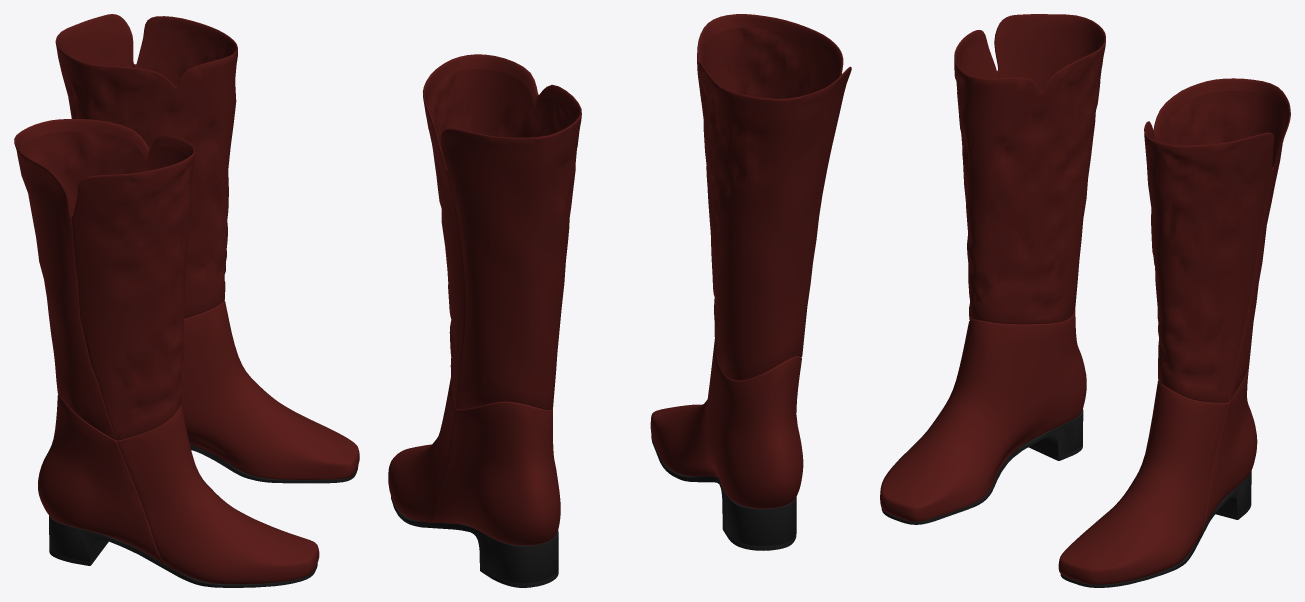
File: boat.fbx
3 views of the same model, side by side, from view 1: azimuth 30°, elevation 25°; view 2: azimuth 150°, elevation 25°; view 3: azimuth 270°, elevation 25° (orthographic). The views are drawn at different scales.
Parts seen in each view (by area): view 1: boat floor, boat floor.001, boat neck, boat neck.001; view 2: boat floor.001, boat floor, boat neck.001, boat neck; view 3: boat floor, boat floor.001, boat neck, boat neck.001.
Part boxes in pixels (x1,y1,x2,y2): boat floor: (14,119,319,584); boat floor.001: (55,14,359,479); boat neck: (49,515,317,587); boat neck.001: (190,444,358,483); boat floor.001: (388,54,581,545); boat floor: (650,14,851,508); boat neck.001: (391,496,558,587); boat neck: (651,435,796,550); boat floor: (880,14,1105,521); boat floor.001: (1058,78,1290,584); boat neck: (881,409,1083,524); boat neck.001: (1060,471,1251,587).
Bounding box in the file's own units: 365 × 403 × 371.
